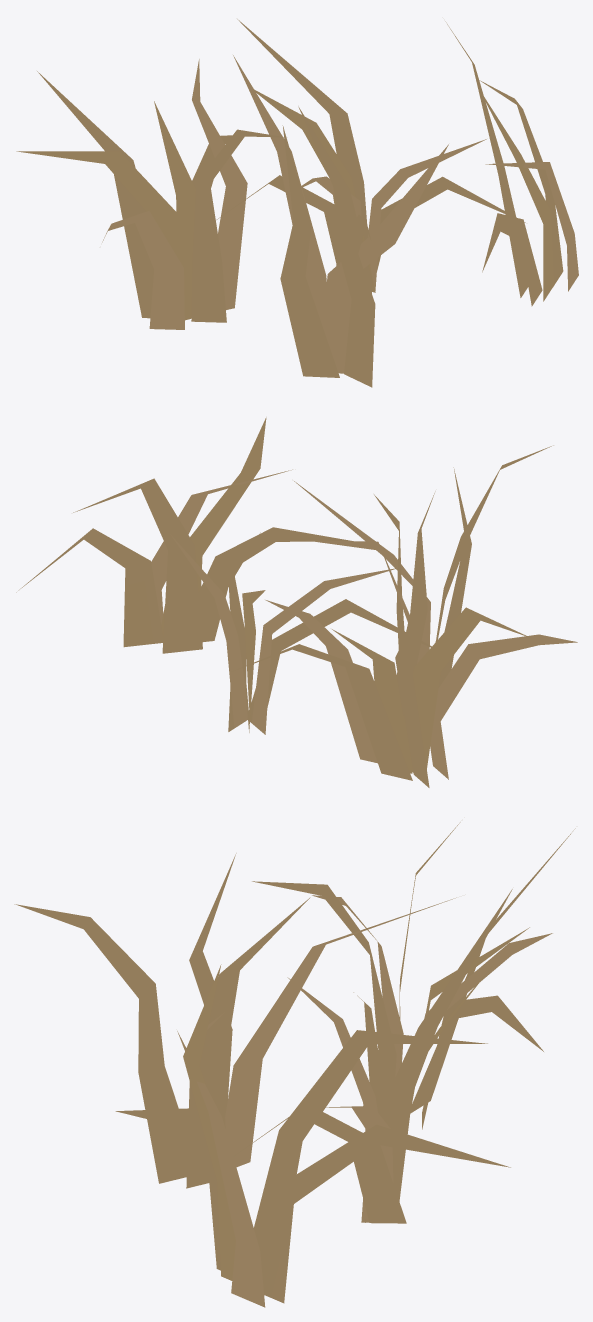
File: Grass_e_OneS_06.fbx
3 views of the same model, one above another, from view 1: azimuth 30°, elevation 25°; view 2: azimuth 150°, elevation 25°; view 3: azimuth 270°, elevation 25° (orthographic). The views are drawn at different scales.
Parts seen in each view (by area): view 1: Grass_e_OneS_06; view 2: Grass_e_OneS_06; view 3: Grass_e_OneS_06.
Part boxes in pixels (x1=…): Grass_e_OneS_06: x1=16, y1=19, x2=578, y2=387; Grass_e_OneS_06: x1=16, y1=417, x2=577, y2=787; Grass_e_OneS_06: x1=14, y1=822, x2=575, y2=1307.
Size of the model in its own units: 1.02 by 0.5188 by 0.8712.
